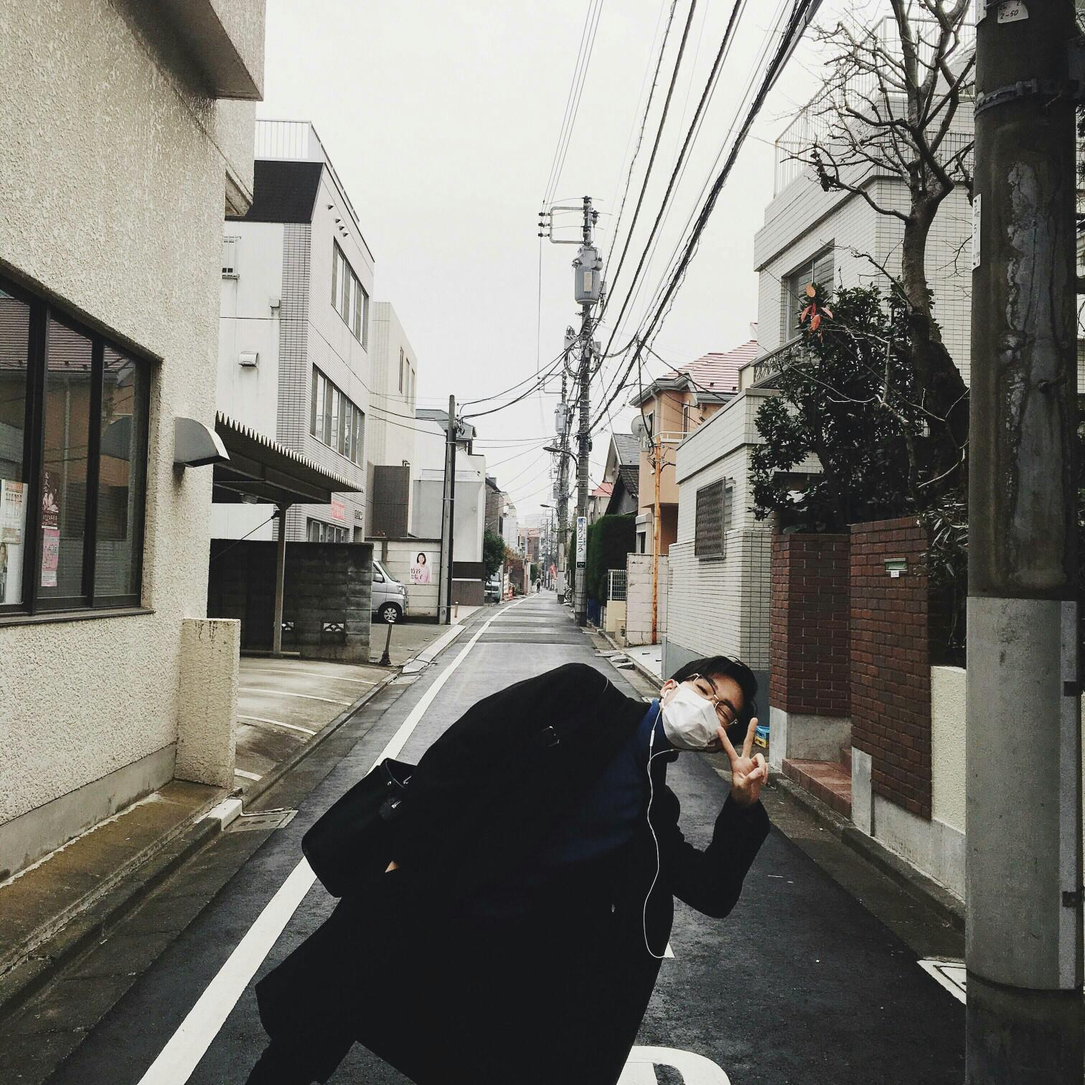OK: (667, 668, 750, 751)
